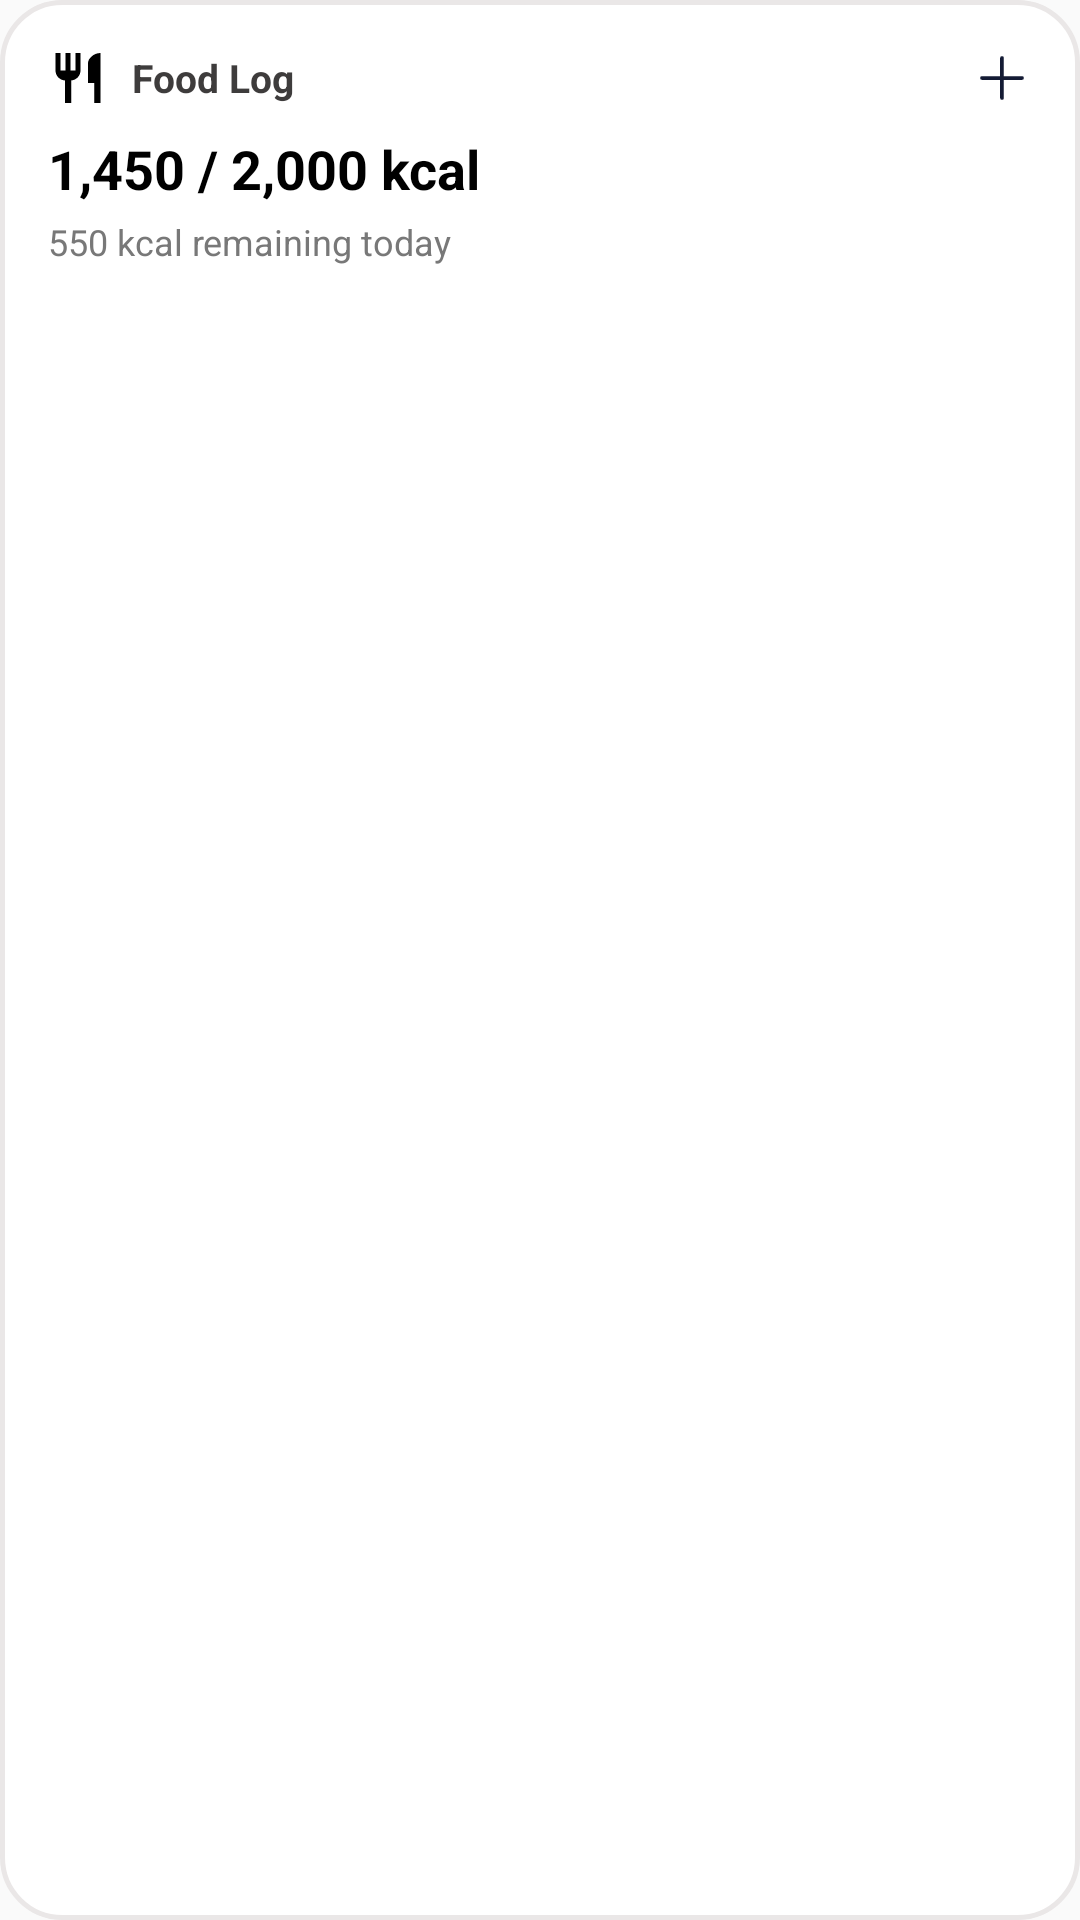

Where icons sit on this 1080w x 1920h app screen, as (x1, y1, x2, y2):
nutri plus: (980, 56, 1024, 100)
widget food: (55, 53, 101, 103)
